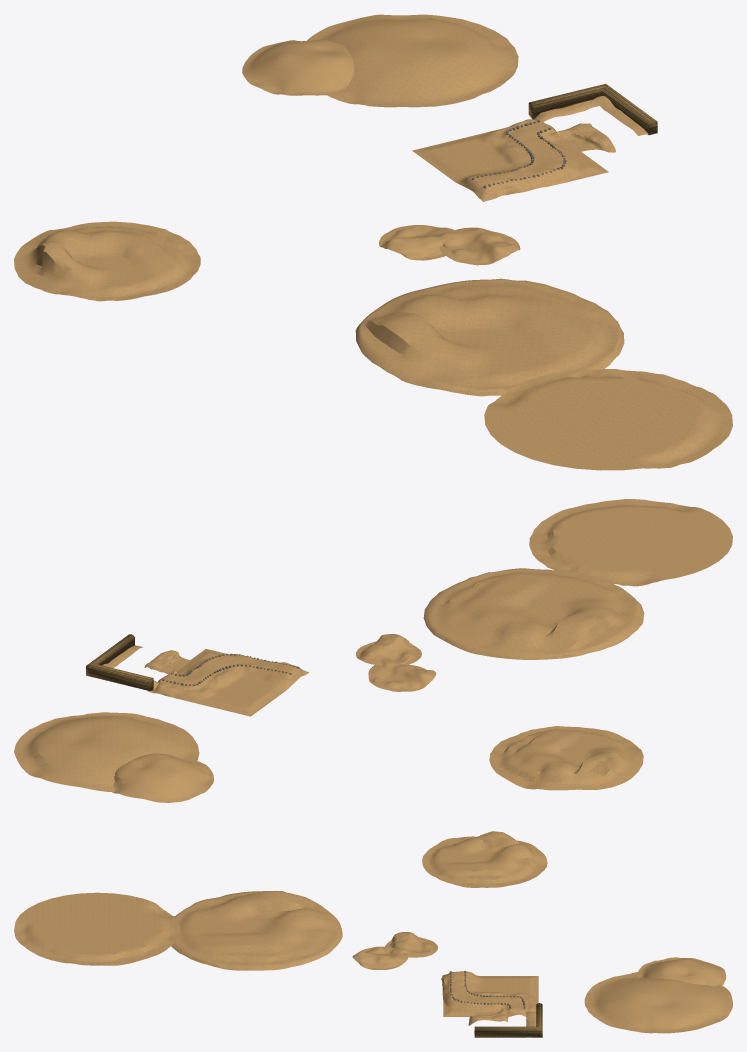
Rendered from Islands.glb.
3 views of the same model, one above another, from view 1: azimuth 30°, elevation 25°; view 2: azimuth 150°, elevation 25°; view 3: azimuth 270°, elevation 25° (orthographic). The views are drawn at different scales.
Visible parts, largest first — view 1: Islands; view 2: Islands; view 3: Islands.
Boxes of the visible parts, left/top/right/bottom form: Islands: left=14, top=14, right=732, bottom=470; Islands: left=14, top=499, right=732, bottom=802; Islands: left=14, top=831, right=732, bottom=1037.
Size of what is drawn, in the model's own units: 57.8 by 2.18 by 86.37.
3 materials, 3 textured.
